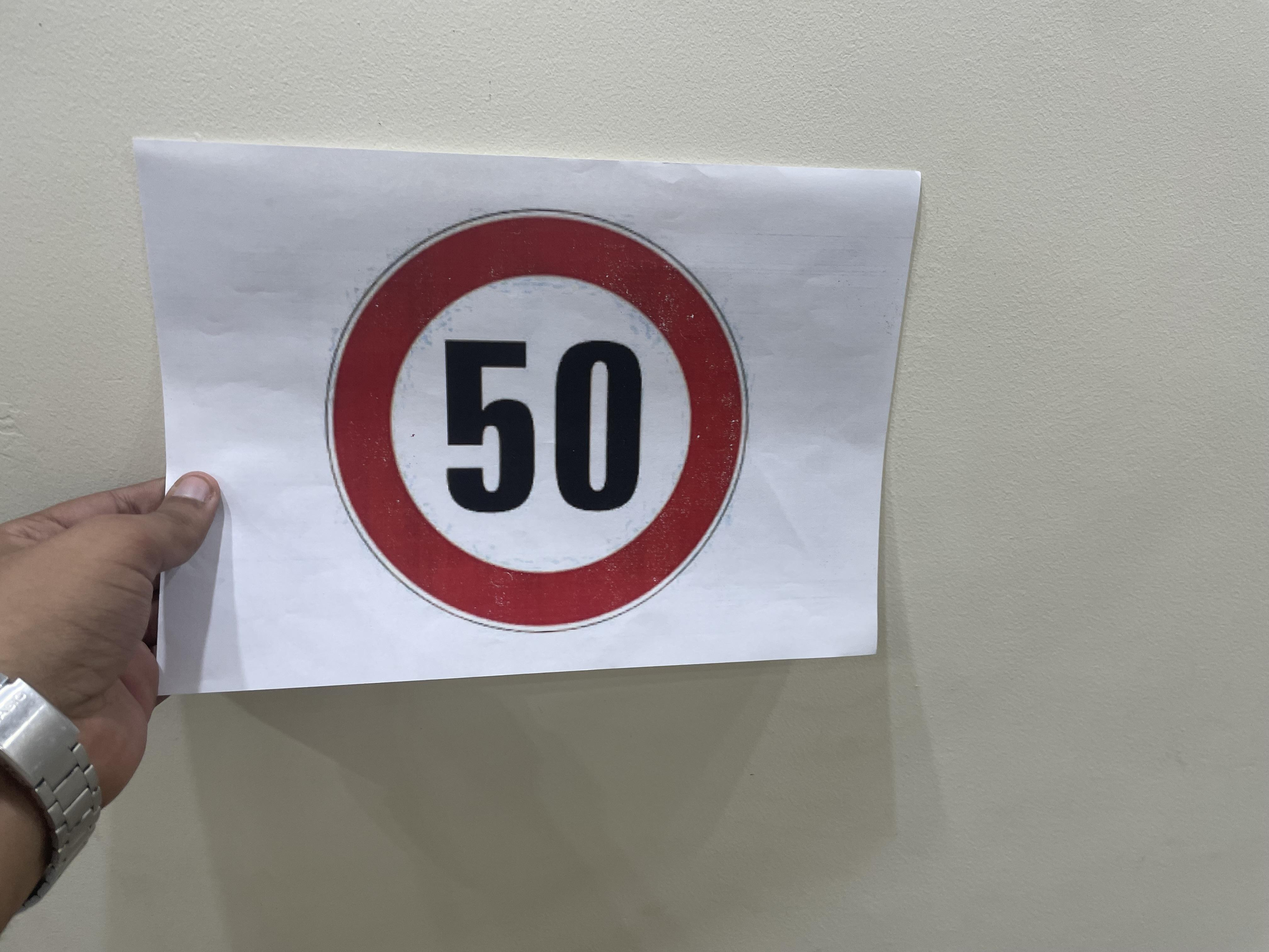50-Speed: (318, 200, 754, 637)
